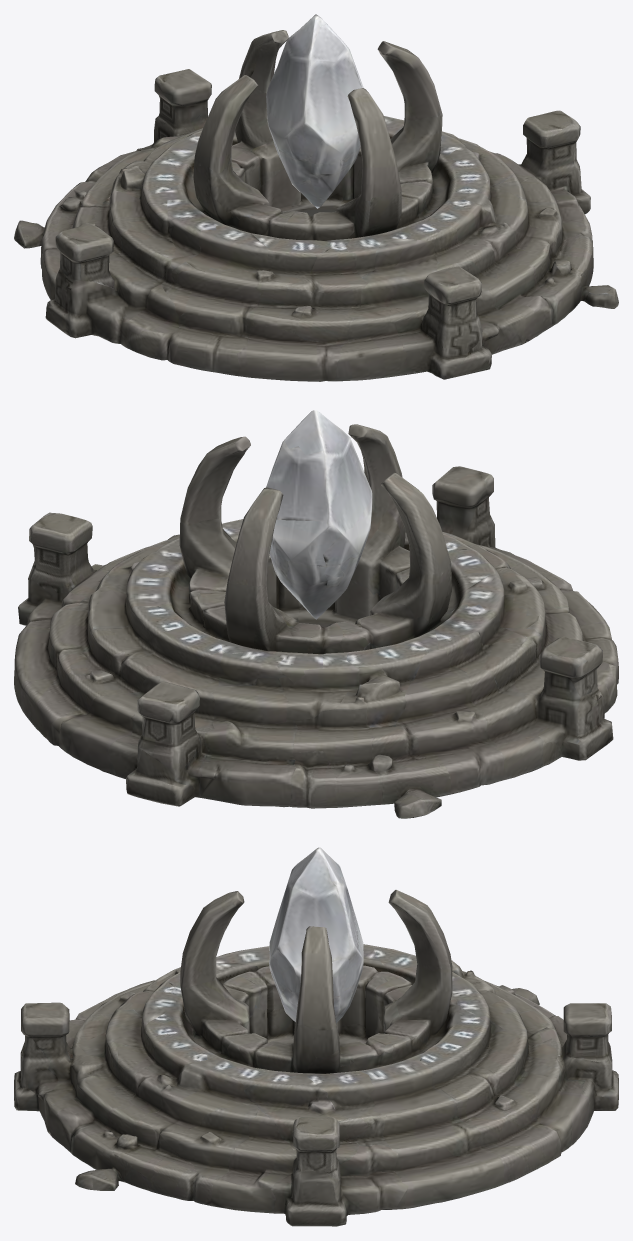
Rendered from nexus.glb.
3 views of the same model, one above another, from view 1: azimuth 30°, elevation 25°; view 2: azimuth 150°, elevation 25°; view 3: azimuth 270°, elevation 25° (orthographic). The views are drawn at different scales.
Size of the model in its own units: 1.9 by 0.8735 by 1.9.
1 material, 1 textured.
